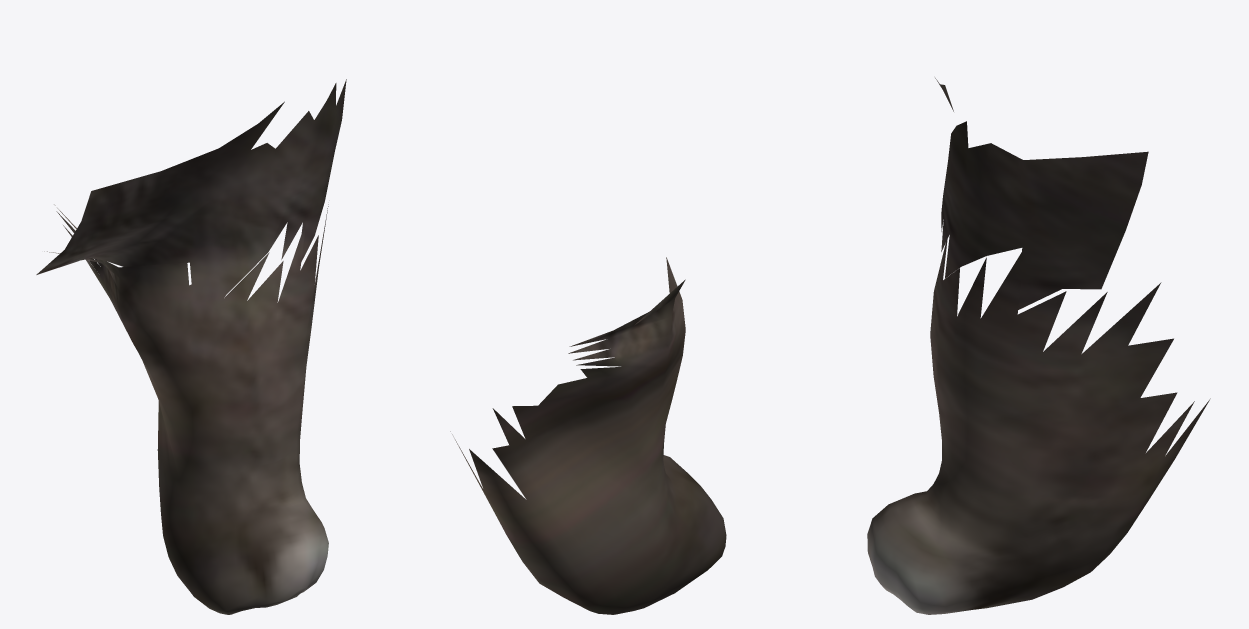
File: oiia_cat_leg_fl.glb
3 views of the same model, side by side, from view 1: azimuth 30°, elevation 25°; view 2: azimuth 150°, elevation 25°; view 3: azimuth 270°, elevation 25° (orthographic). The views are drawn at different scales.
Parts seen in each view (by area): view 1: OiiaCat_leg_fl; view 2: OiiaCat_leg_fl; view 3: OiiaCat_leg_fl.
Part boxes in pixels (x1,y1,x2,y2): OiiaCat_leg_fl: (36, 79, 346, 614); OiiaCat_leg_fl: (450, 257, 726, 614); OiiaCat_leg_fl: (867, 78, 1210, 614).
Bounding box in the file's own units: 7.68 × 11.05 × 6.86.
1 material, 1 textured.
